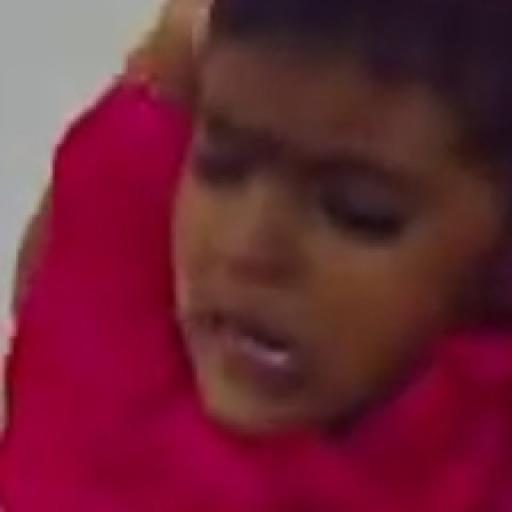Autism: (143, 5, 512, 498)
